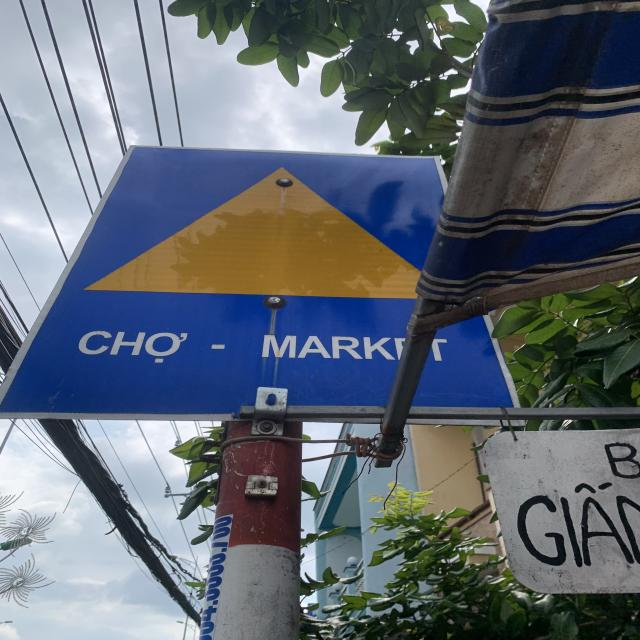Cho_Quay_Xe: (8, 150, 494, 415)
